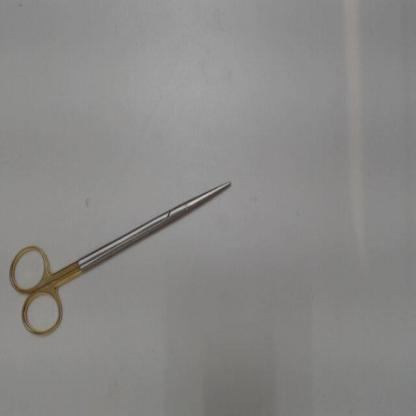7 Metzenbaum Scissors: (5, 177, 235, 344)
